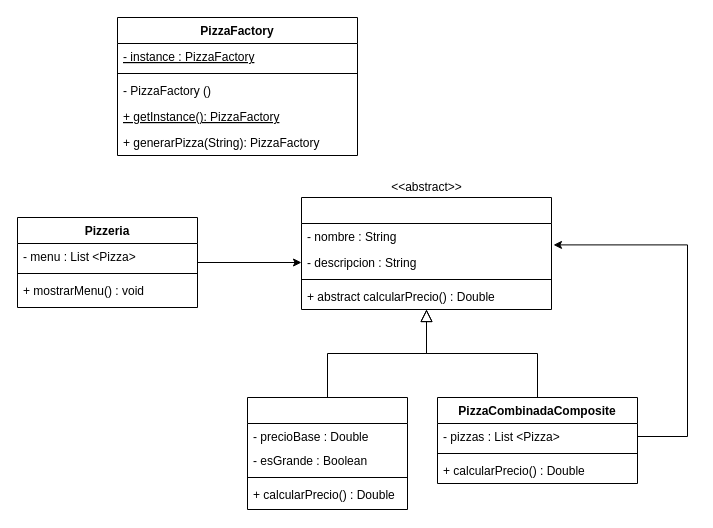
Image size: 713x528. Some labels were removed from this diagram. Here are the shapes that lost their labels. From the top down, the box of each, then its label:
(300, 196, 552, 310): Pizza
(246, 396, 408, 510): PizzaSimple
